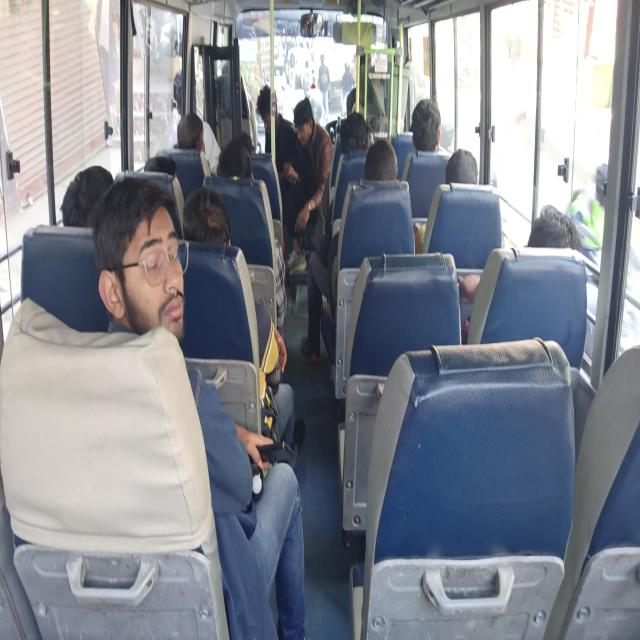person: (95, 203, 194, 320), (66, 158, 122, 225), (533, 208, 583, 260), (190, 191, 235, 241), (361, 148, 407, 191), (174, 119, 210, 159), (140, 153, 182, 187), (219, 144, 252, 187), (444, 156, 478, 194), (412, 110, 443, 149), (336, 122, 376, 151), (173, 66, 201, 107), (260, 83, 284, 130), (294, 107, 322, 143)
